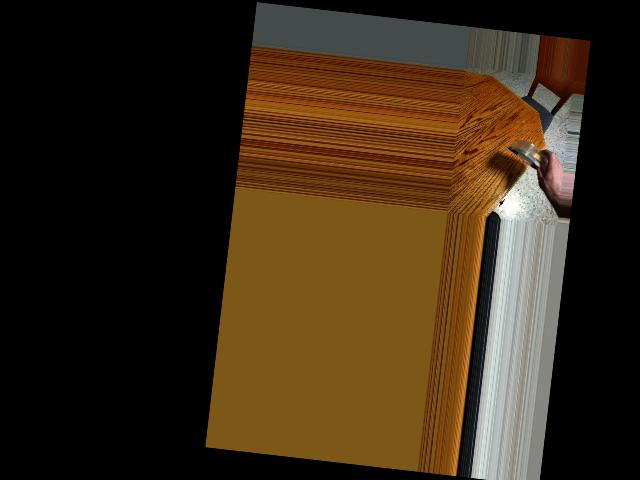cheese: (506, 138, 552, 170)
